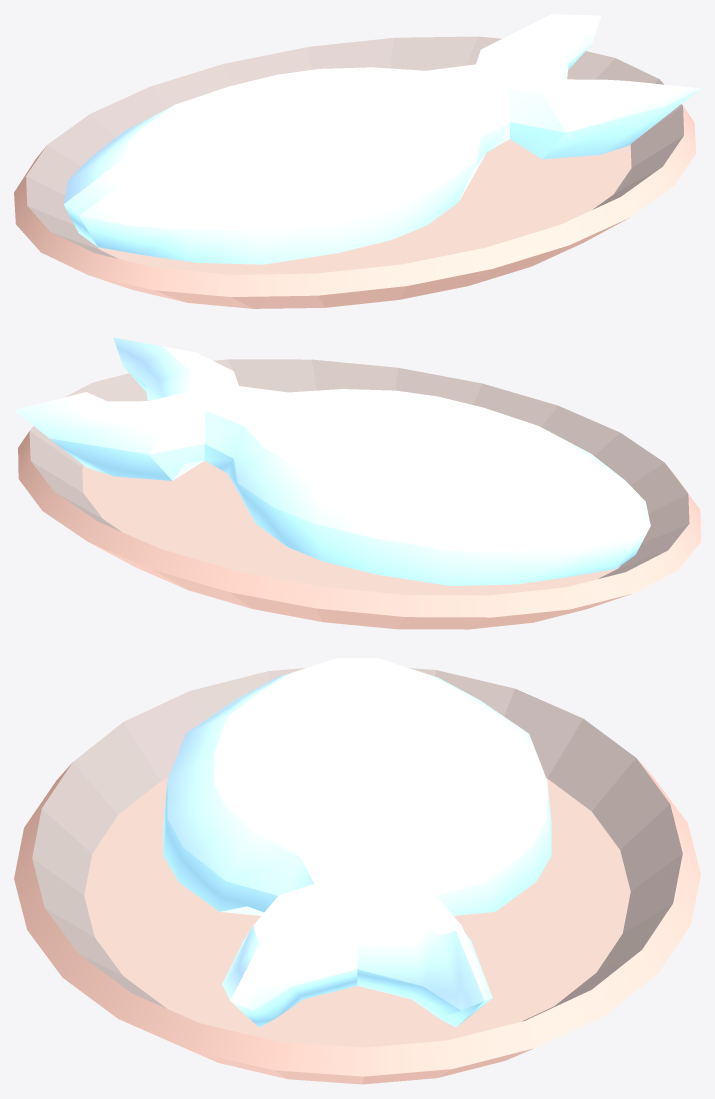
The model's file is FishPlate.fbx.
The picture shows the model from 3 angles, top to bottom: view 1: azimuth 30°, elevation 25°; view 2: azimuth 150°, elevation 25°; view 3: azimuth 270°, elevation 25°; orthographic projection. The views are drawn at different scales.
Parts seen in each view (by area): view 1: fish, plate; view 2: fish, plate; view 3: plate, fish.
Part boxes in pixels (x1=…): fish: x1=63, y1=14, x2=700, y2=264; plate: x1=14, y1=36, x2=696, y2=308; fish: x1=14, y1=337, x2=650, y2=586; plate: x1=18, y1=359, x2=700, y2=629; plate: x1=14, y1=668, x2=700, y2=1084; fish: x1=163, y1=658, x2=551, y2=1027.
Bounding box in the file's own units: 38.81 × 6.22 × 28.46.
